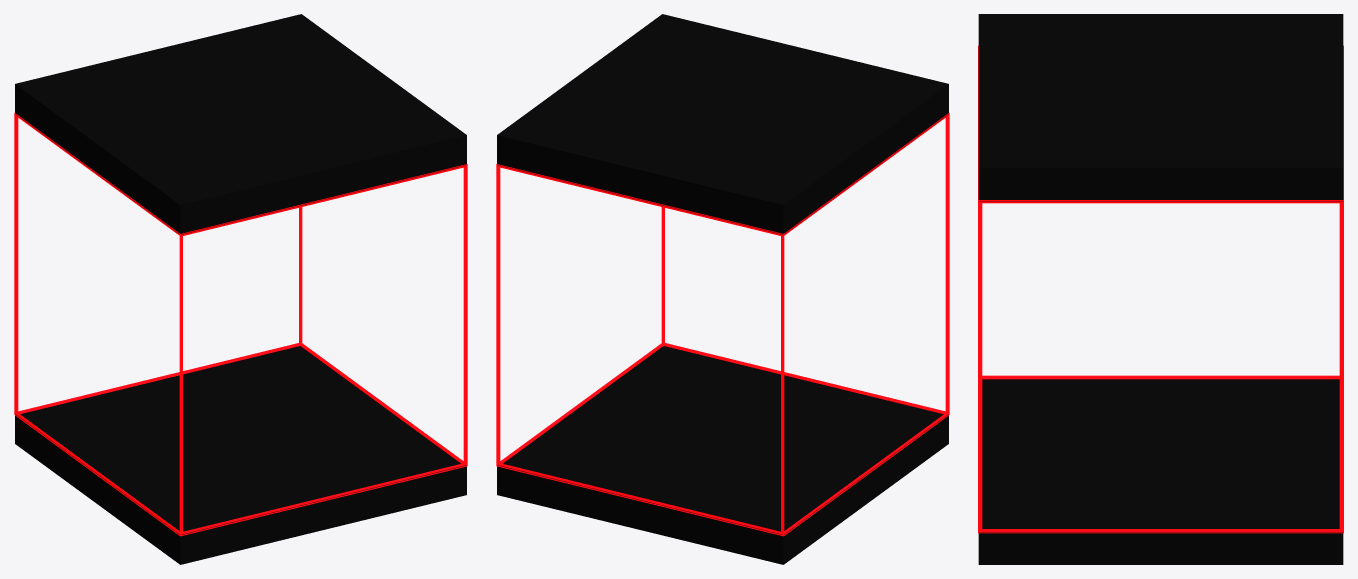
The model's file is laser box.dae.
3 views of the same model, side by side, from view 1: azimuth 30°, elevation 25°; view 2: azimuth 150°, elevation 25°; view 3: azimuth 270°, elevation 25° (orthographic). The views are drawn at different scales.
Parts seen in each view (by area): view 1: Cube.003, Cube.001; view 2: Cube.003, Cube.001; view 3: Cube.003, Cube.001.
Part boxes in pixels (left/top/right/bottom): Cube.003: left=15, top=14, right=466, bottom=564; Cube.001: left=14, top=112, right=467, bottom=536; Cube.003: left=497, top=14, right=948, bottom=564; Cube.001: left=496, top=112, right=949, bottom=536; Cube.003: left=978, top=14, right=1343, bottom=564; Cube.001: left=978, top=45, right=1343, bottom=533.
Bounding box in the file's own units: 2 × 2 × 2.4.
